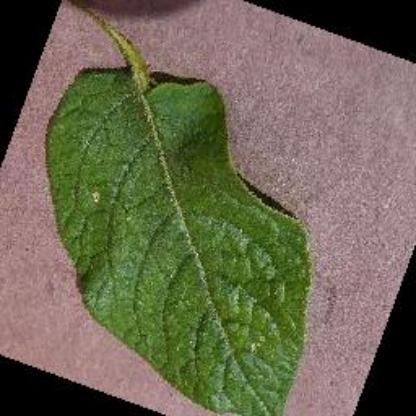Healthy-plant: (44, 15, 312, 415)
